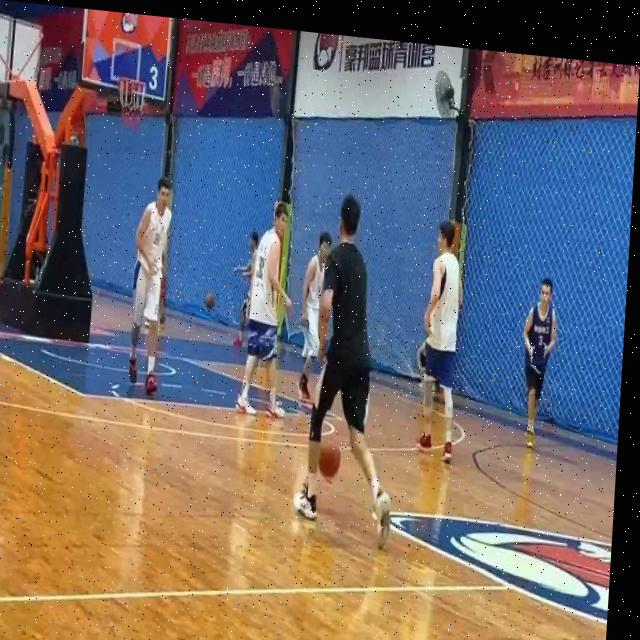basketball: (317, 438, 343, 481), (205, 292, 215, 309)
hoop: (117, 77, 148, 132)
